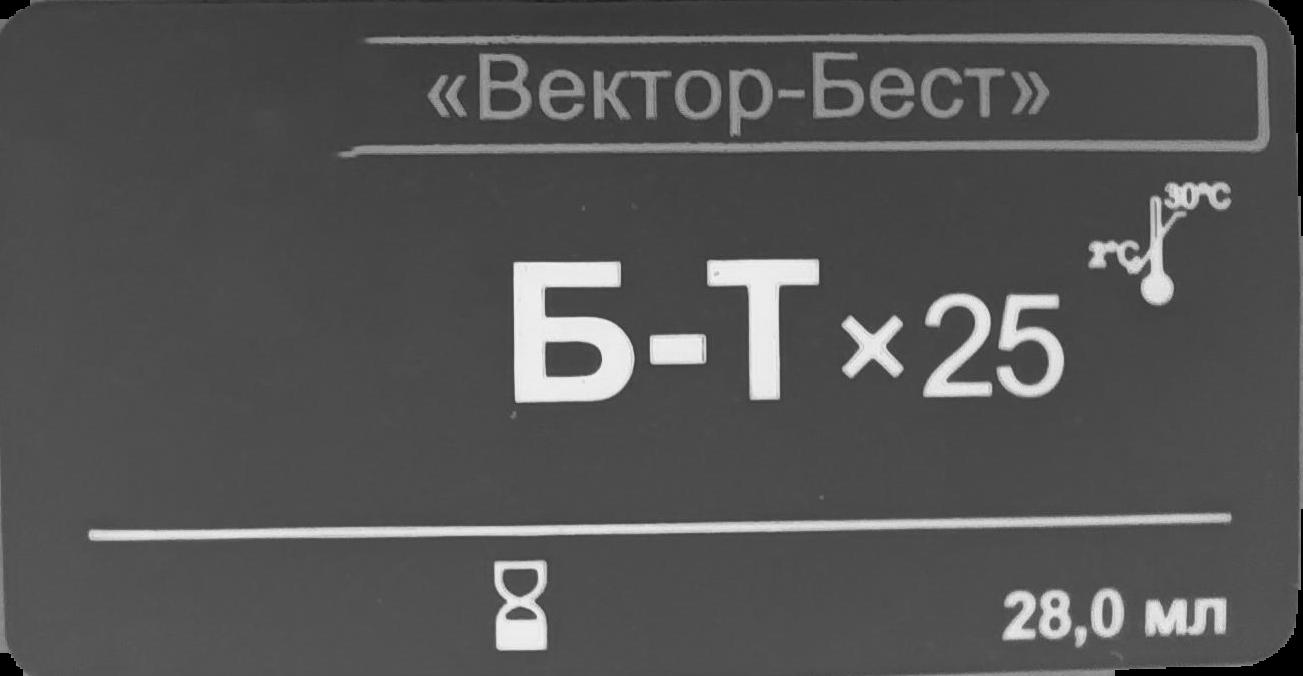something: (1085, 177, 1235, 310), (489, 554, 558, 658)
text: (505, 252, 1065, 405), (427, 50, 1053, 149), (1000, 588, 1239, 647)
